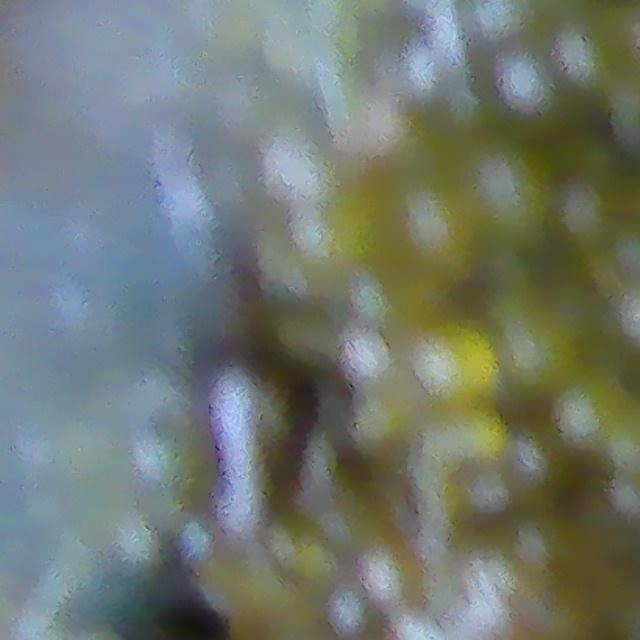SeaGrape: (455, 137, 562, 247), (413, 317, 510, 411), (465, 0, 533, 42)
